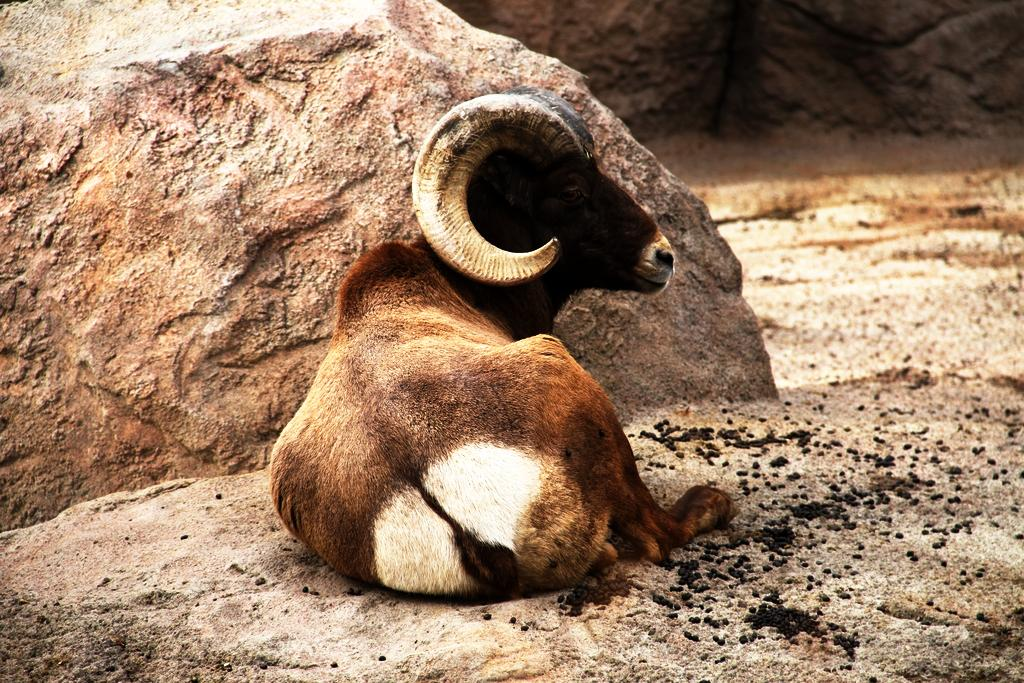Sheep: (267, 83, 742, 600)
